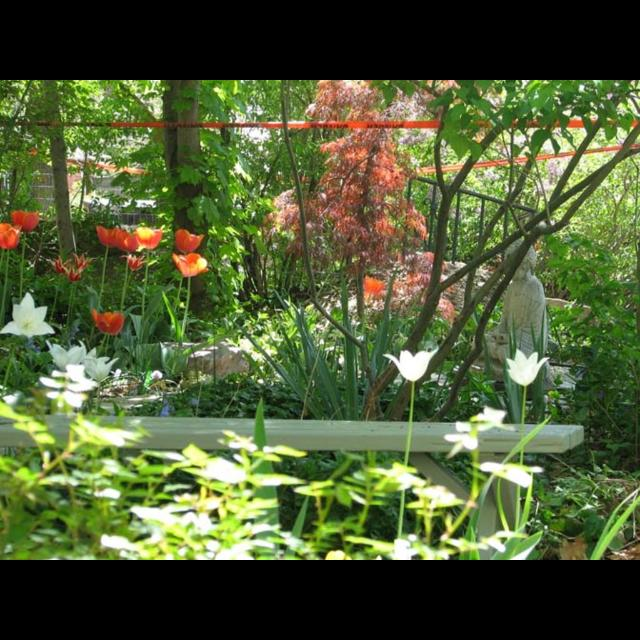Flower: (0, 290, 60, 340), (505, 343, 559, 391), (380, 348, 440, 384), (51, 249, 97, 285), (44, 342, 90, 376), (87, 348, 119, 386), (90, 308, 128, 336), (172, 250, 208, 278), (172, 228, 202, 252), (14, 206, 41, 232), (118, 225, 142, 253), (136, 224, 164, 248), (0, 220, 20, 252), (94, 222, 116, 250), (121, 251, 145, 271)
